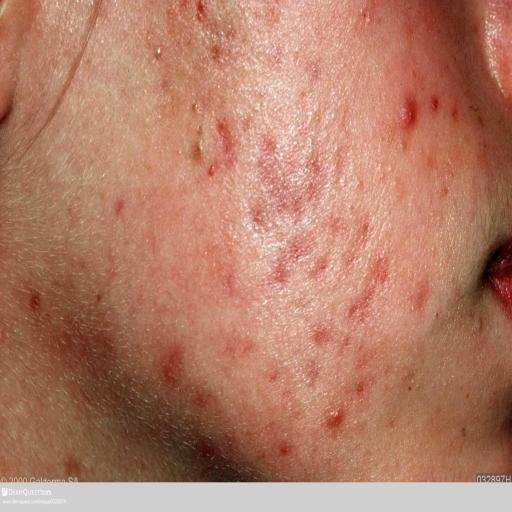Skin_Lesion: (18, 280, 122, 390), (251, 138, 316, 213), (196, 111, 238, 180), (358, 266, 390, 318), (279, 242, 337, 270), (19, 0, 54, 44), (150, 46, 174, 103), (492, 252, 510, 326), (495, 382, 512, 453), (161, 346, 186, 385), (24, 280, 45, 320), (409, 272, 428, 316), (184, 0, 211, 30), (323, 400, 344, 434), (300, 355, 321, 389), (255, 0, 286, 23), (400, 96, 416, 131), (208, 39, 226, 70), (312, 320, 333, 346), (358, 1, 371, 43), (456, 424, 473, 448), (358, 216, 372, 241), (280, 437, 292, 458), (432, 92, 441, 114)
